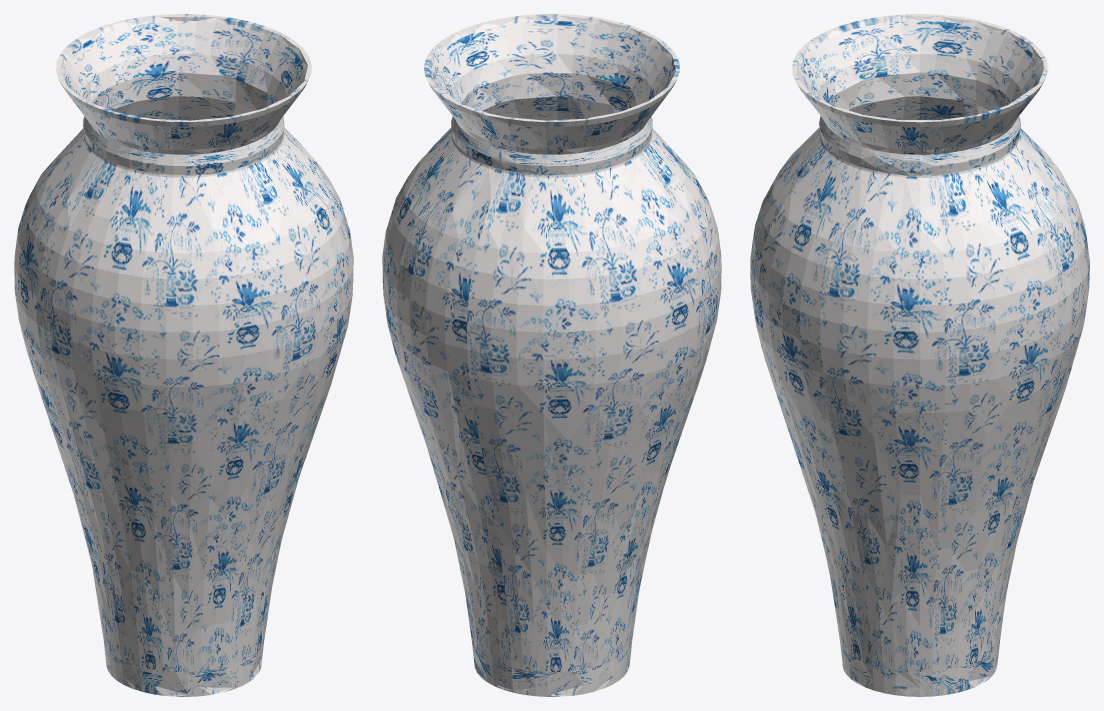
The model's file is P_Flower.obj.
The picture shows the model from 3 angles, left to right: view 1: azimuth 30°, elevation 25°; view 2: azimuth 150°, elevation 25°; view 3: azimuth 270°, elevation 25°; orthographic projection.
Bounding box in the file's own units: 0.2779 × 0.5379 × 0.2777.
Materials: 1 (1 with a texture image).
